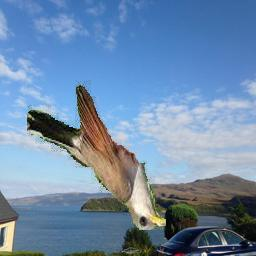Cuckoo: (28, 78, 167, 230)
